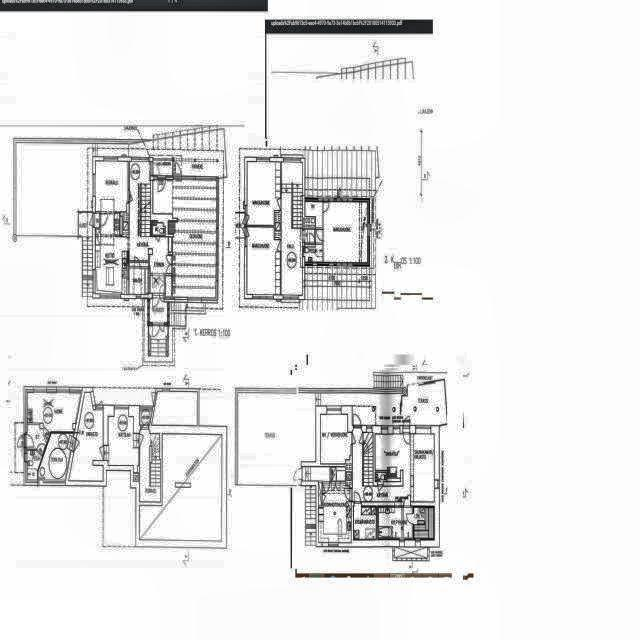room: (27, 393, 81, 455), (324, 202, 367, 262), (247, 227, 280, 295), (247, 162, 280, 225), (37, 429, 73, 484), (95, 237, 128, 294), (96, 161, 128, 212), (321, 415, 351, 464), (140, 434, 160, 502), (379, 507, 412, 537), (353, 506, 376, 540), (414, 507, 433, 538), (305, 202, 322, 228), (129, 268, 145, 294), (150, 299, 167, 322), (153, 221, 165, 235)
